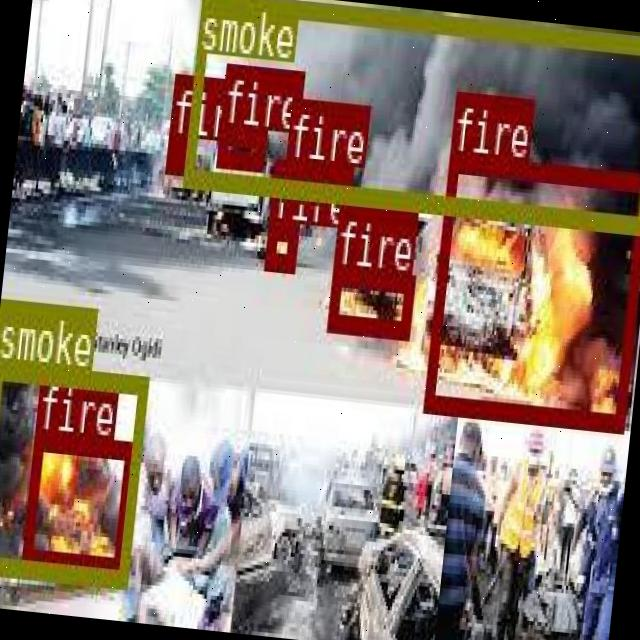fire: (422, 152, 640, 428), (20, 428, 134, 572), (327, 264, 412, 336), (215, 124, 265, 167), (280, 157, 320, 199), (264, 217, 296, 267), (164, 134, 188, 169)
smoke: (182, 0, 640, 231), (0, 360, 145, 582)
